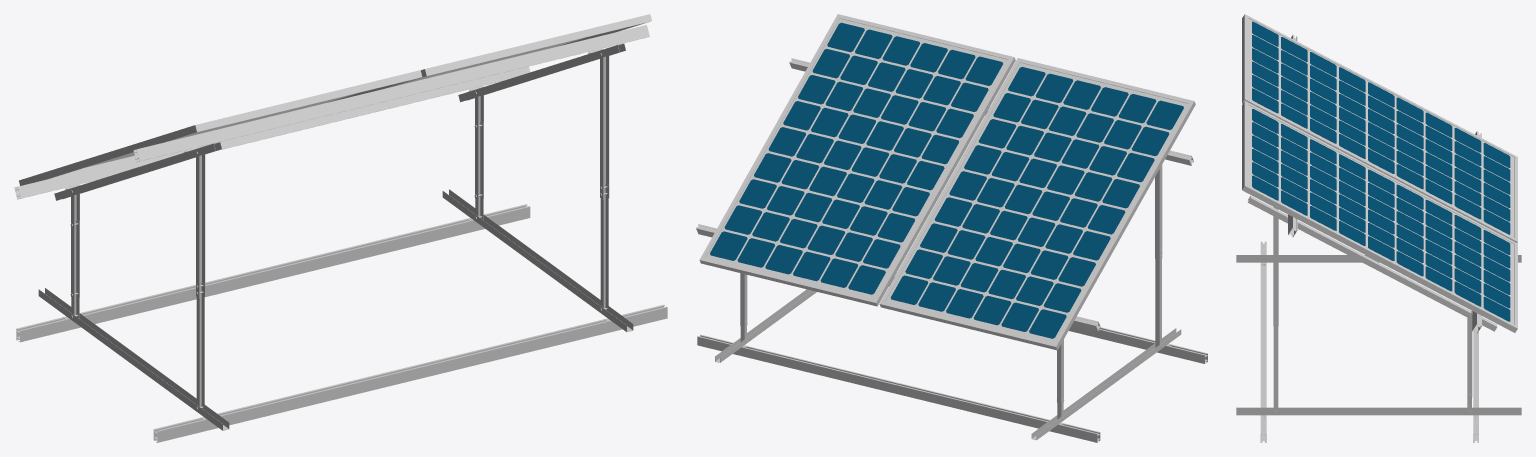
File: Panel.gltf
The picture shows the model from 3 angles, left to right: view 1: azimuth 30°, elevation 25°; view 2: azimuth 150°, elevation 25°; view 3: azimuth 270°, elevation 25°; orthographic projection. The views are drawn at different scales.
Parts seen in each view (by area): view 1: freepolygo; view 2: freepolygo; view 3: freepolygo.
Part boxes in pixels (bbox=[...]): freepolygo: bbox=[14, 14, 667, 442]; freepolygo: bbox=[696, 14, 1207, 442]; freepolygo: bbox=[1236, 14, 1521, 442].
Bounding box in the file's own units: 240 × 143 × 150.
